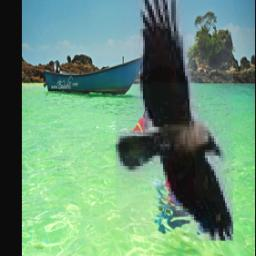Crow: (117, 0, 234, 241)
